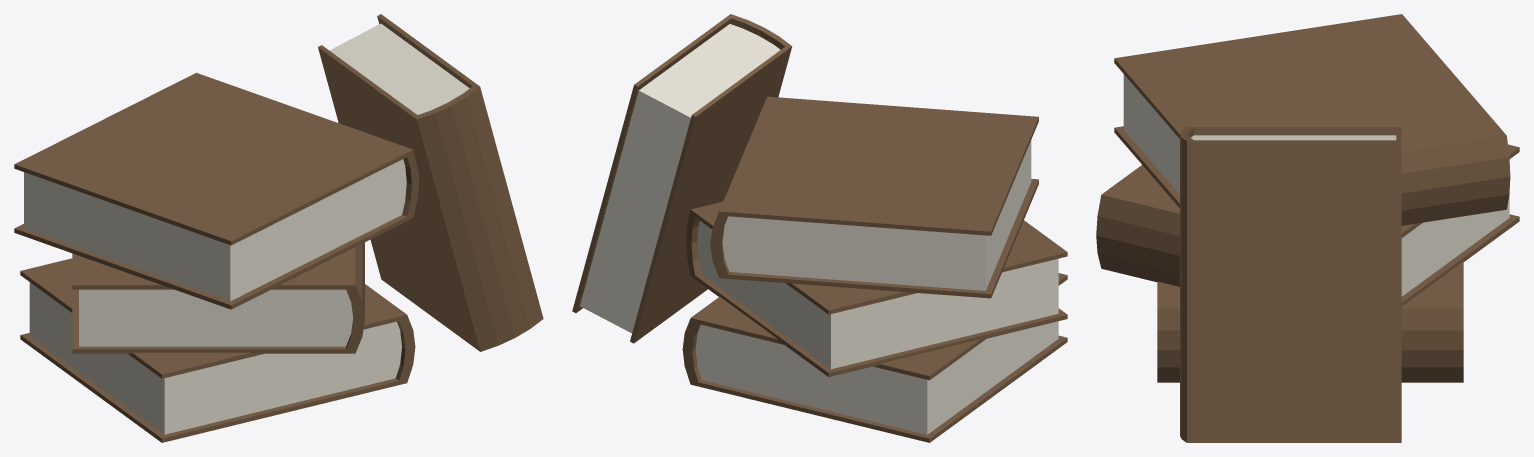
The model's file is Books2.fbx.
3 views of the same model, side by side, from view 1: azimuth 30°, elevation 25°; view 2: azimuth 150°, elevation 25°; view 3: azimuth 270°, elevation 25° (orthographic). The views are drawn at different scales.
Visible parts, largest first — view 1: Book2, Book; view 2: Book2, Book; view 3: Book, Book2.
Part boxes in pixels (box(x1,y1,x2,y2)): Book2: box(14, 72, 419, 442); Book: box(318, 14, 543, 351); Book2: box(682, 96, 1067, 442); Book: box(572, 14, 792, 343); Book: box(1180, 127, 1401, 442); Book2: box(1096, 14, 1519, 382).
Size of the model in its own units: 1077 by 621 by 830.
